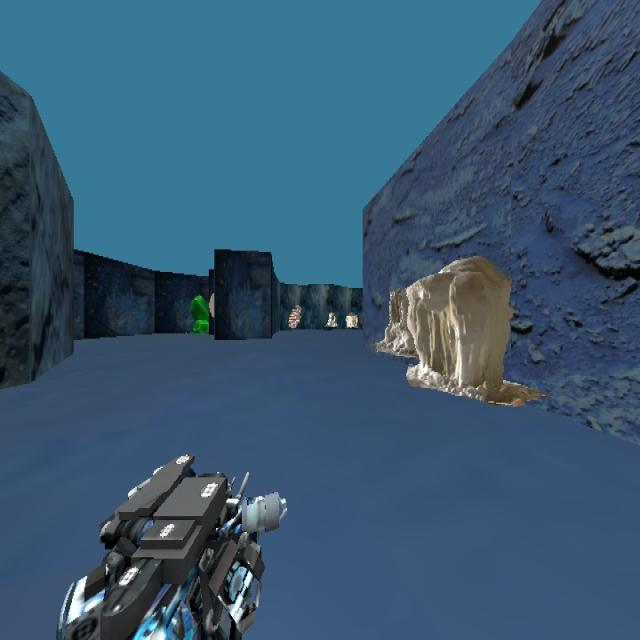Diamon: (189, 294, 210, 334)
Ice: (384, 253, 514, 392)
Mushroom: (287, 303, 301, 329)
